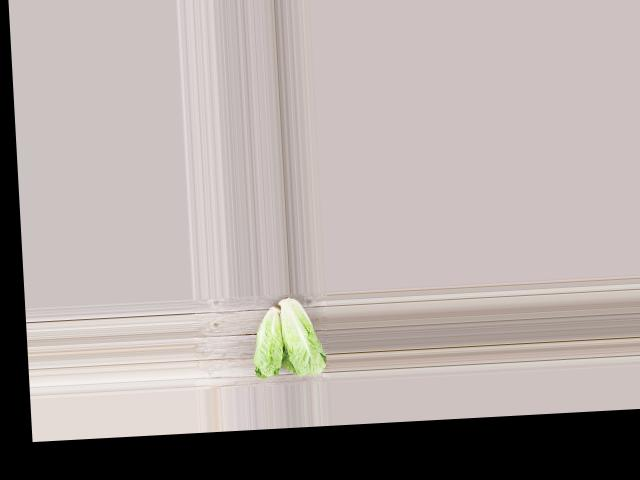lettuce: (277, 292, 329, 379)
